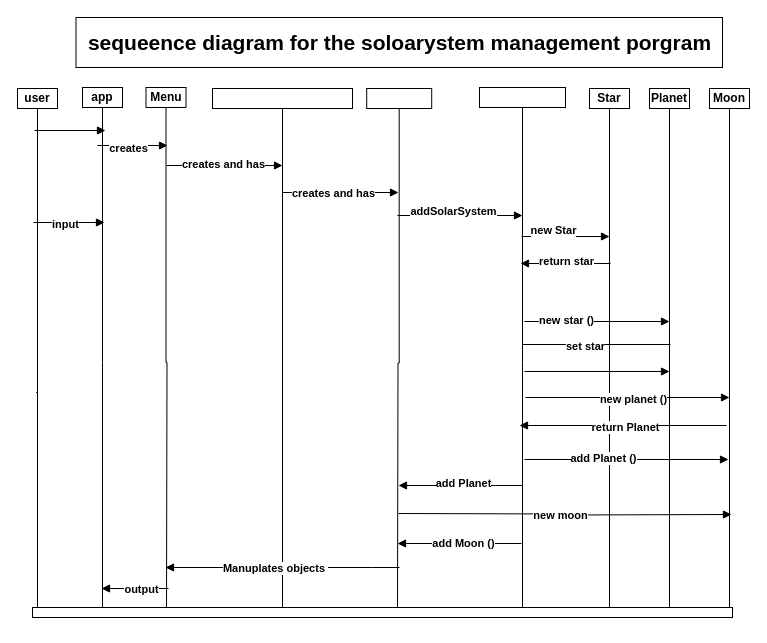
Image size: 767x643. Some labels were removed from this diagram. Here are the shapes that lost their labels. From the top down, the centre of each, then its label:
At point (282, 98): "SolarSystemController".
At point (399, 98): "Universe".
At point (522, 97): "SolarSystem".
